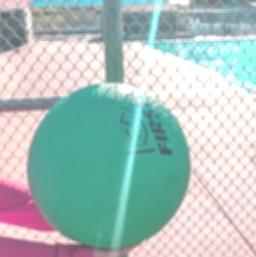algae: (31, 82, 190, 248)
